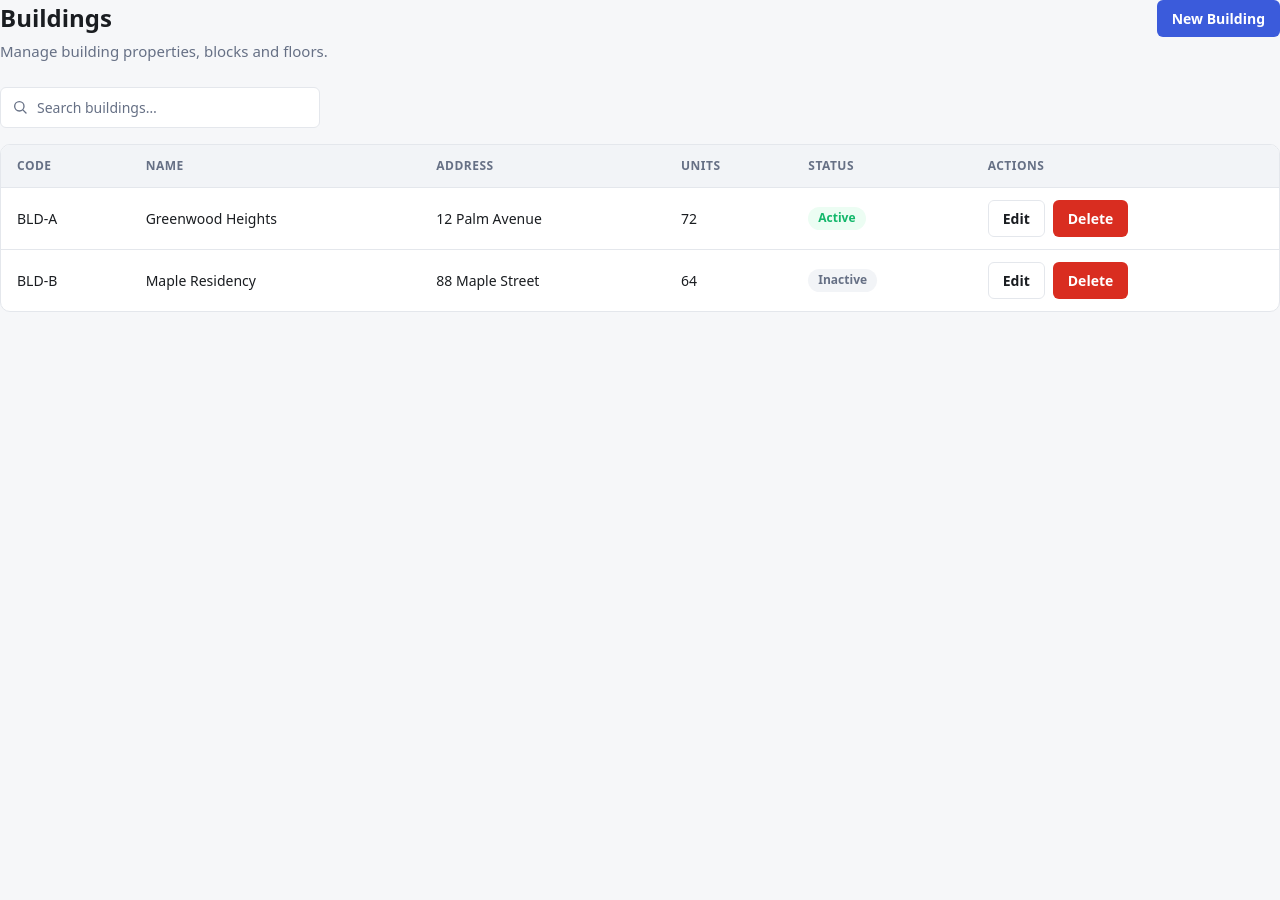
BuildingsPage CRUD functionality › opens the New Building modal
expect the text "Greenwood Heights" is shown: met, box [130, 187, 420, 249]
What coordinates should you click on to do the following:
click the button "New Building"
I would click on:
 (1218, 18)
Its box is [1157, 0, 1279, 37].
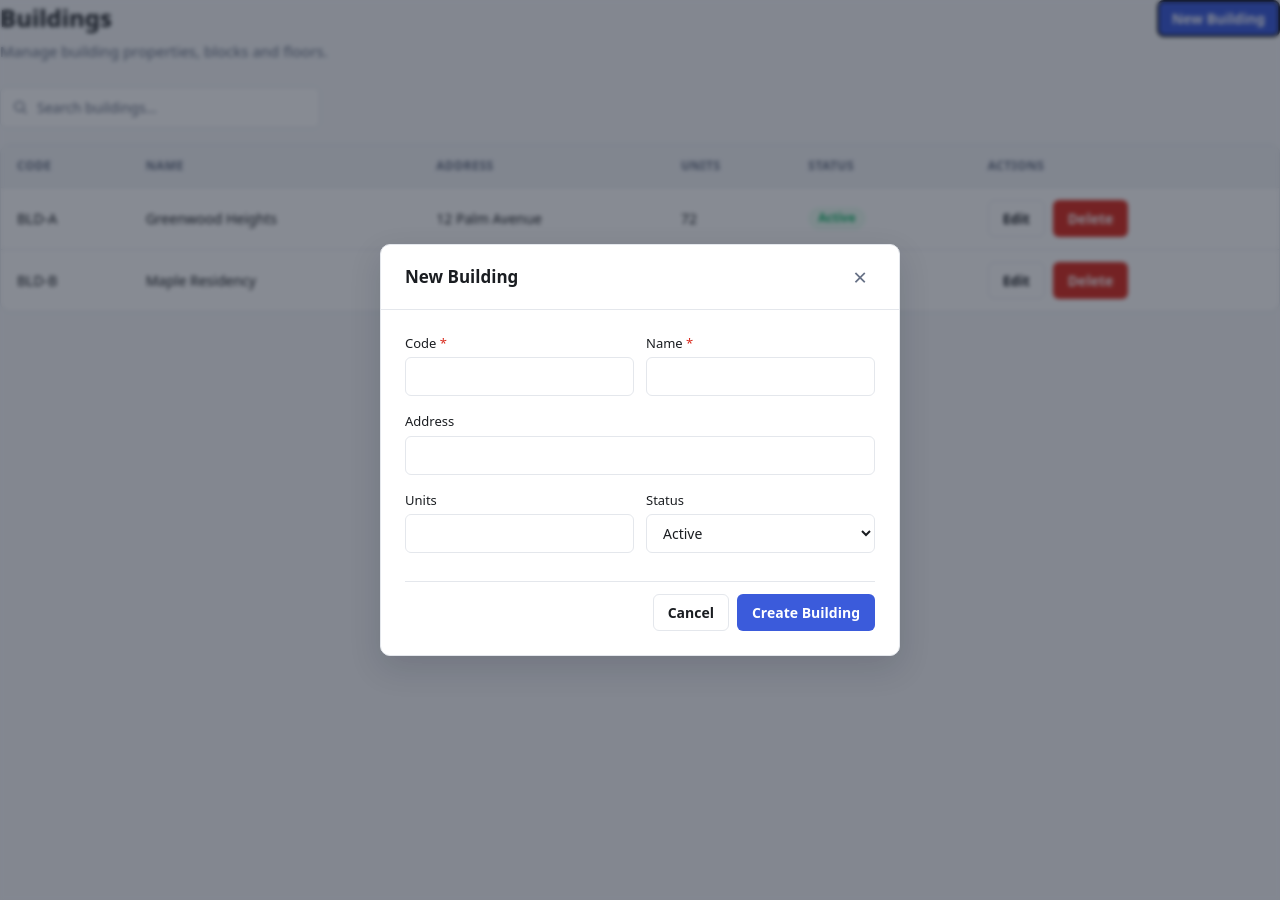
expect the dialog "New Building" is shown: met, box [380, 244, 900, 656]
